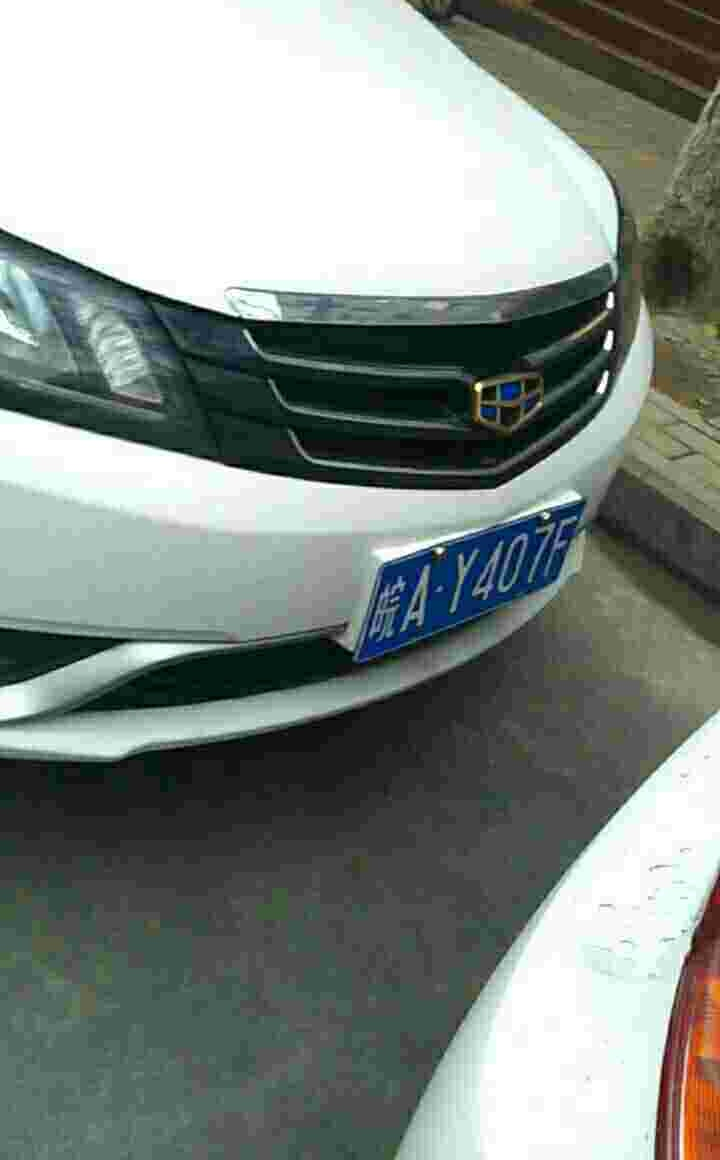license_plate: (357, 514, 577, 663)
